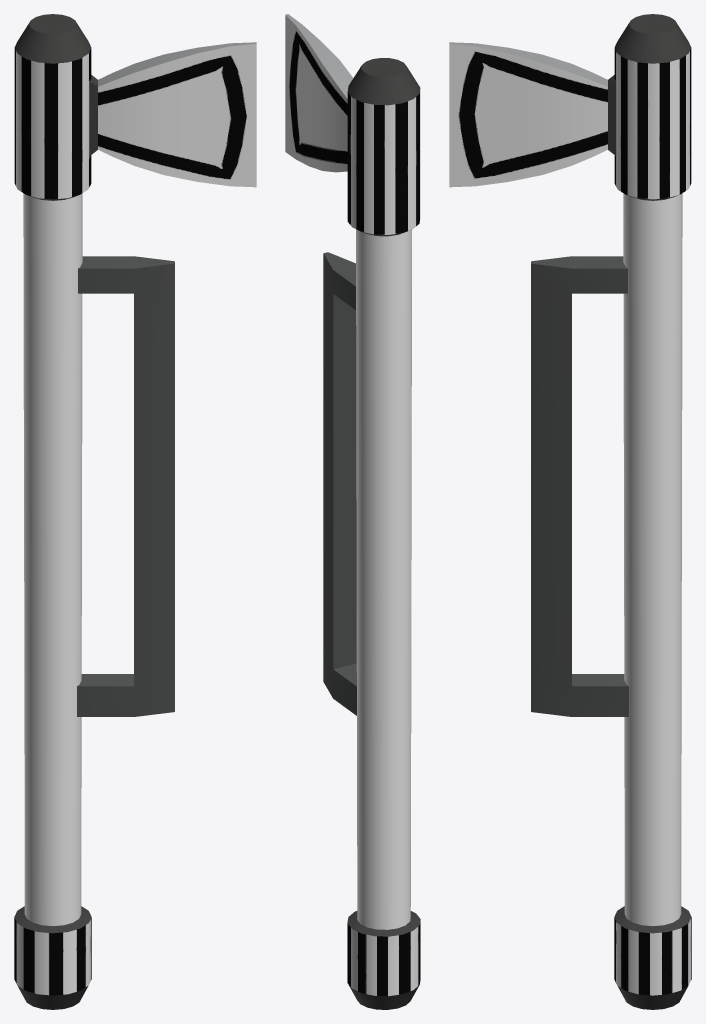
Rendered from axe.fbx.
3 renders of one model, left to right at view 1: azimuth 90°, elevation 25°; view 2: azimuth 210°, elevation 25°; view 3: azimuth 270°, elevation 25°, orthographic. The views are drawn at different scales.
Parts seen in each view (by area): view 1: axe; view 2: axe; view 3: axe.
Part boxes in pixels (box(x1,y1,x2,y2)): axe: box(14, 14, 256, 1009); axe: box(285, 14, 420, 1009); axe: box(449, 14, 691, 1009).
Bounding box in the file's own units: 23.4 × 325 × 73.3.
